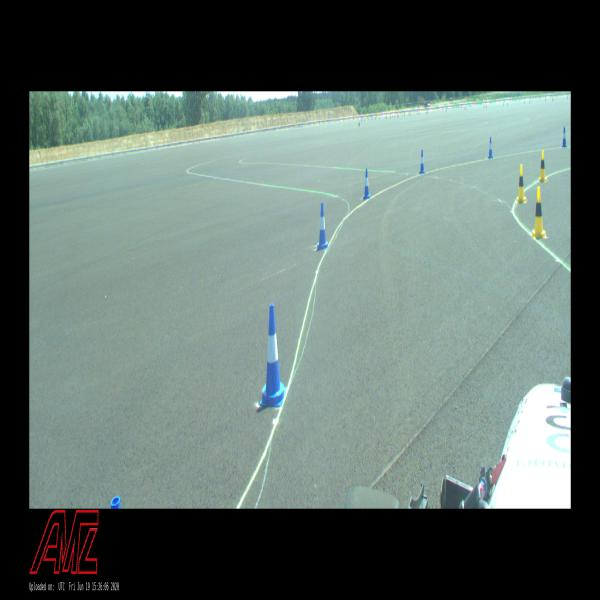blue_cone: (260, 302, 286, 408), (316, 202, 329, 252), (363, 168, 370, 200), (419, 150, 425, 172), (111, 496, 121, 508), (562, 126, 567, 148), (488, 136, 493, 158)
yellow_cone: (532, 188, 546, 237), (516, 165, 526, 203), (538, 149, 547, 182)
